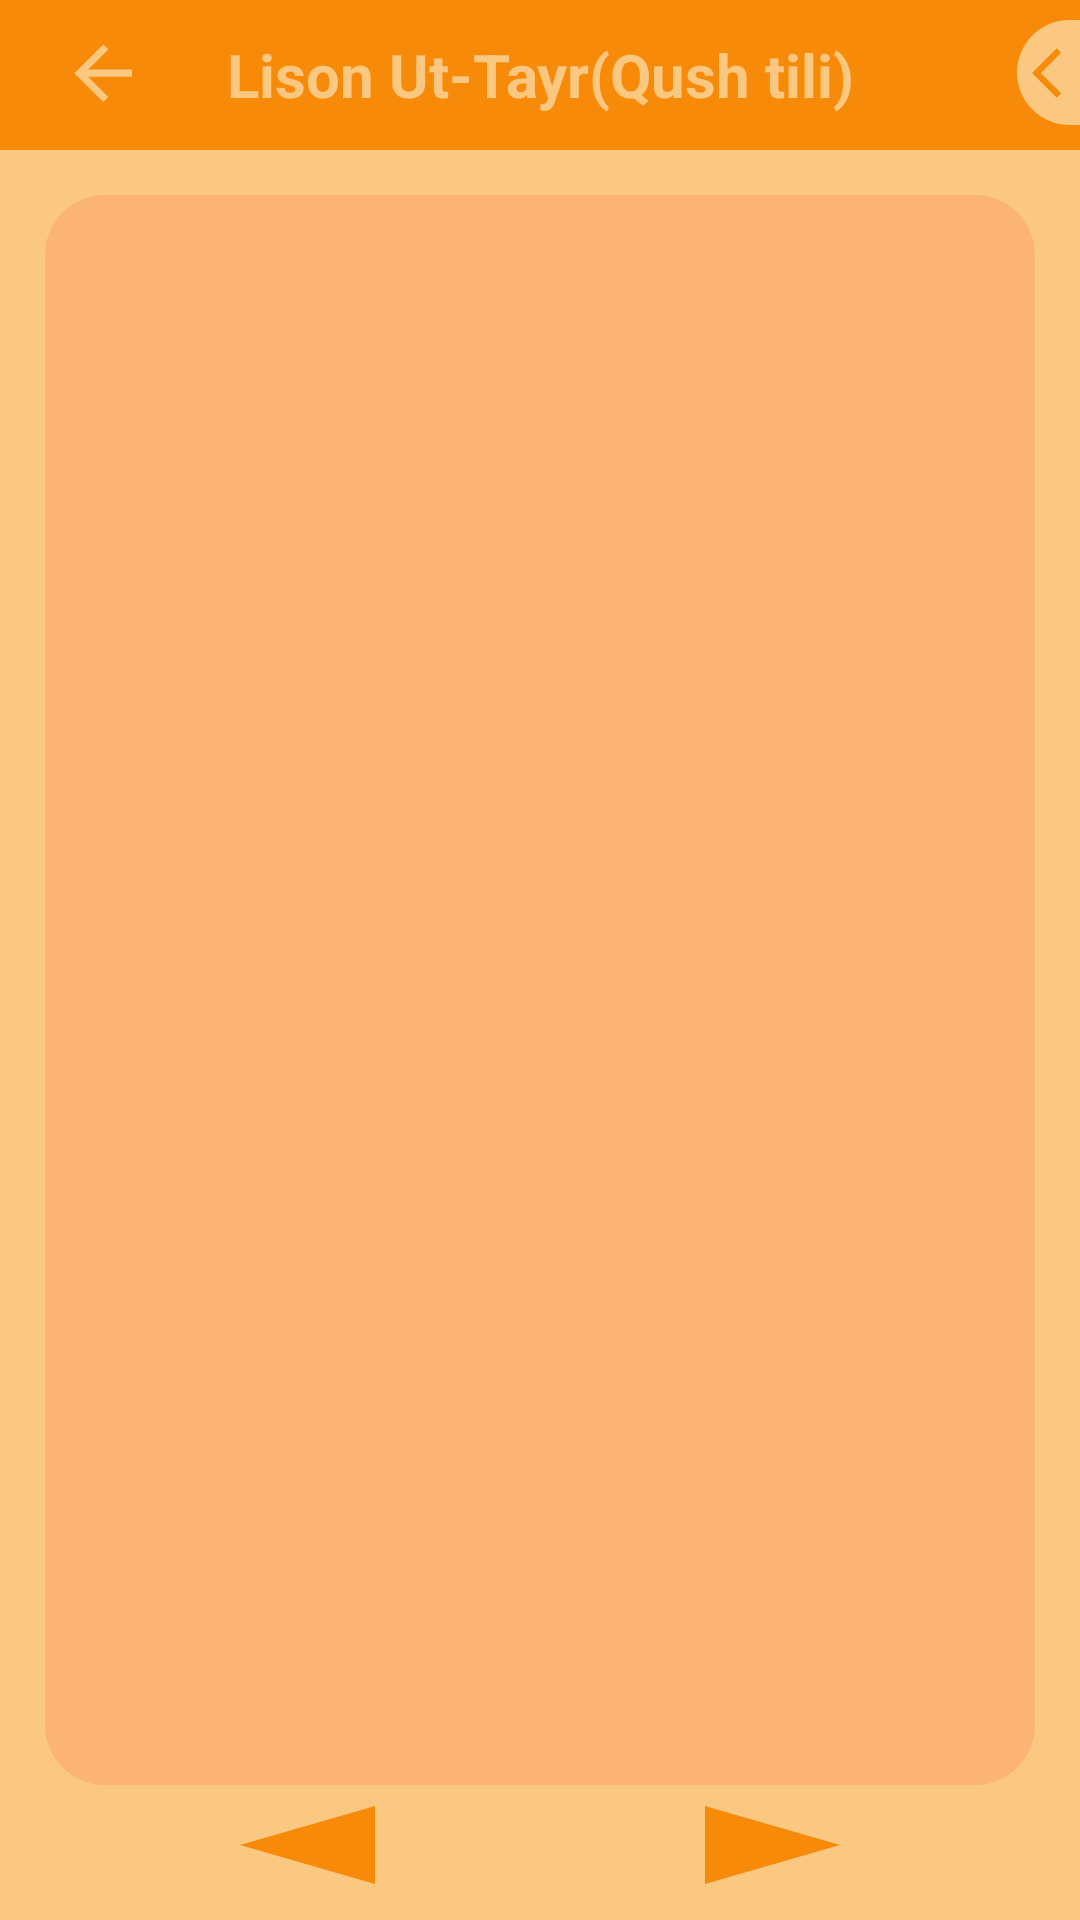

Icons on this 1080 × 1920 Android screen, each with its box as (x1, y1, x2, y2):
arrow back: (74, 44, 132, 102)
next: (705, 1806, 839, 1884)
previous: (241, 1806, 375, 1884)
